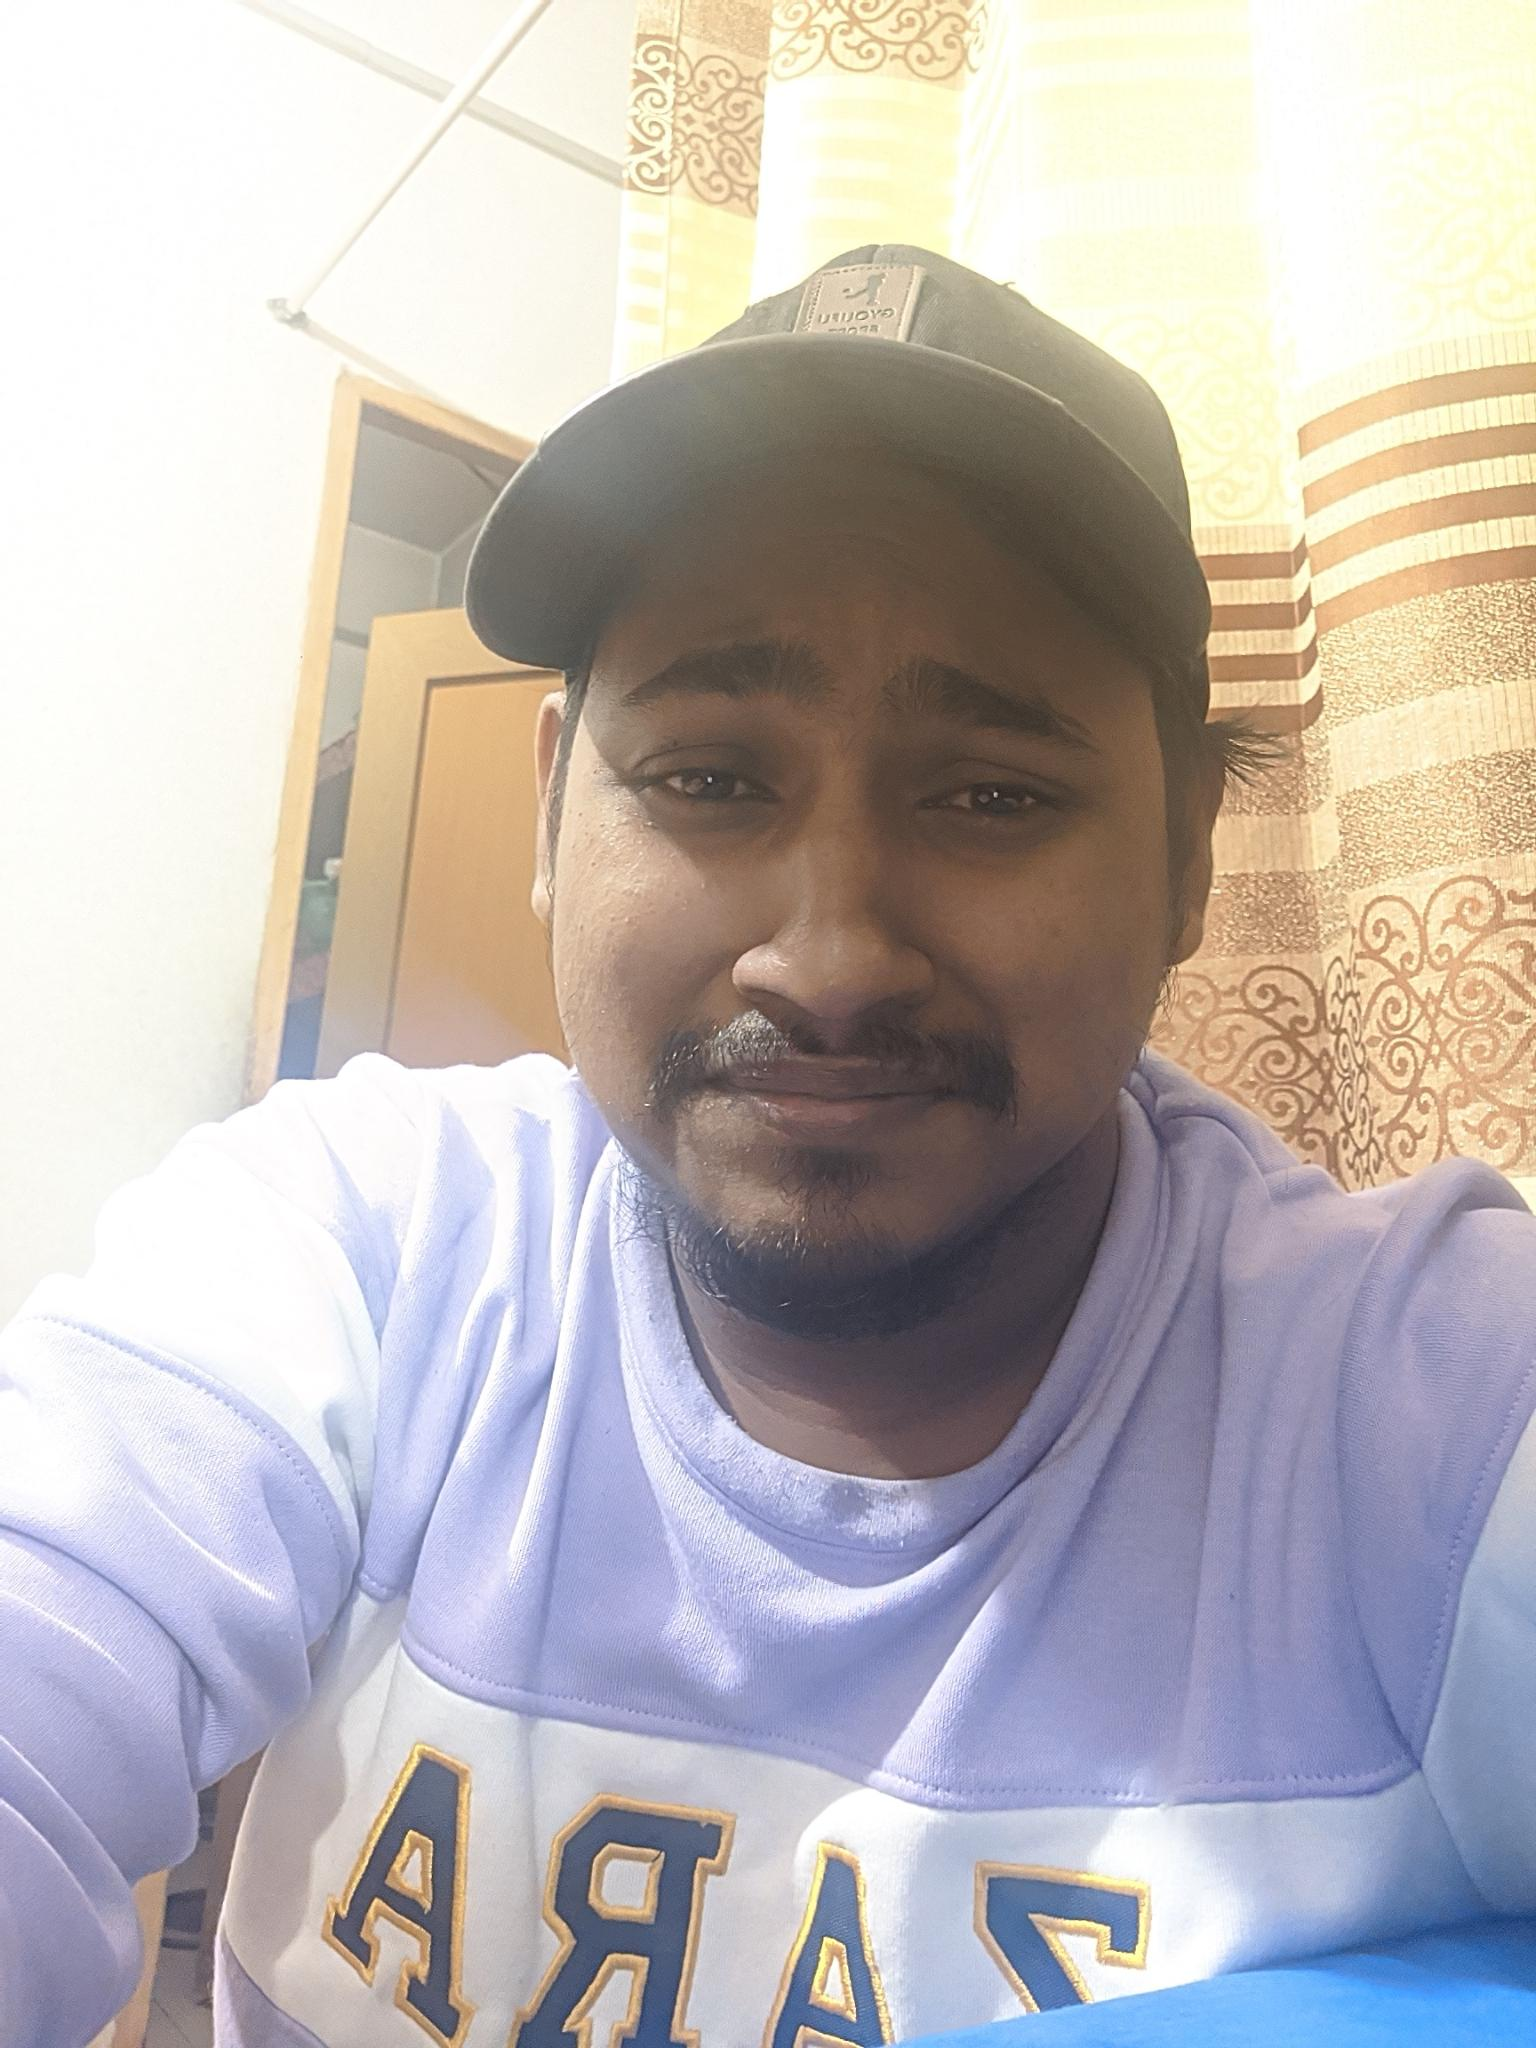Sad: (513, 539, 1170, 1261)
